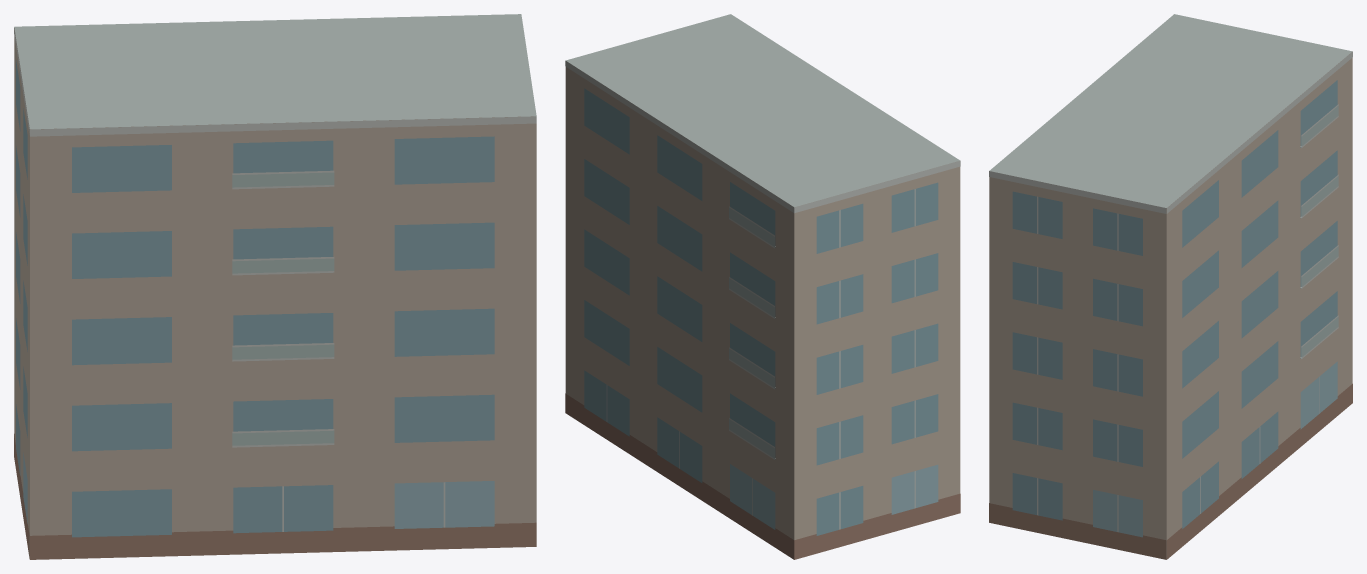
File: survey-upis-32854328.glb
The picture shows the model from 3 angles, left to right: view 1: azimuth 30°, elevation 25°; view 2: azimuth 150°, elevation 25°; view 3: azimuth 270°, elevation 25°; orthographic projection. The views are drawn at different scales.
Visible parts, largest first — view 1: survey-upis-32854328.tmp; view 2: survey-upis-32854328.tmp; view 3: survey-upis-32854328.tmp.
Boxes of the visible parts, x1,y1,x2,y2 form: survey-upis-32854328.tmp: (14,14,536,559); survey-upis-32854328.tmp: (565,14,960,559); survey-upis-32854328.tmp: (989,14,1352,559).
Size of the model in its own units: 17.11 by 14.45 by 13.55.
